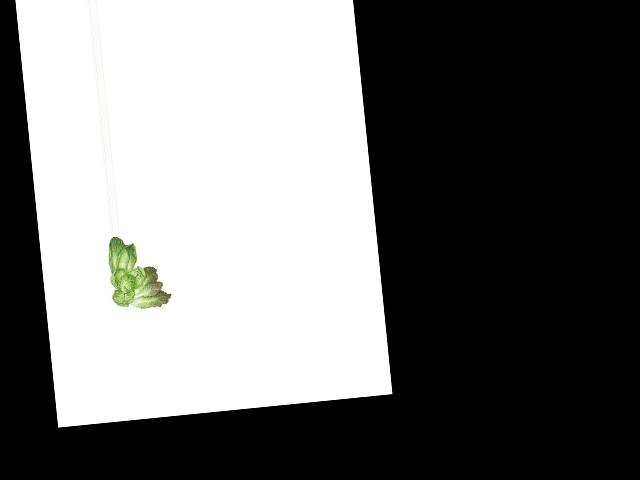lettuce: (102, 230, 176, 313)
